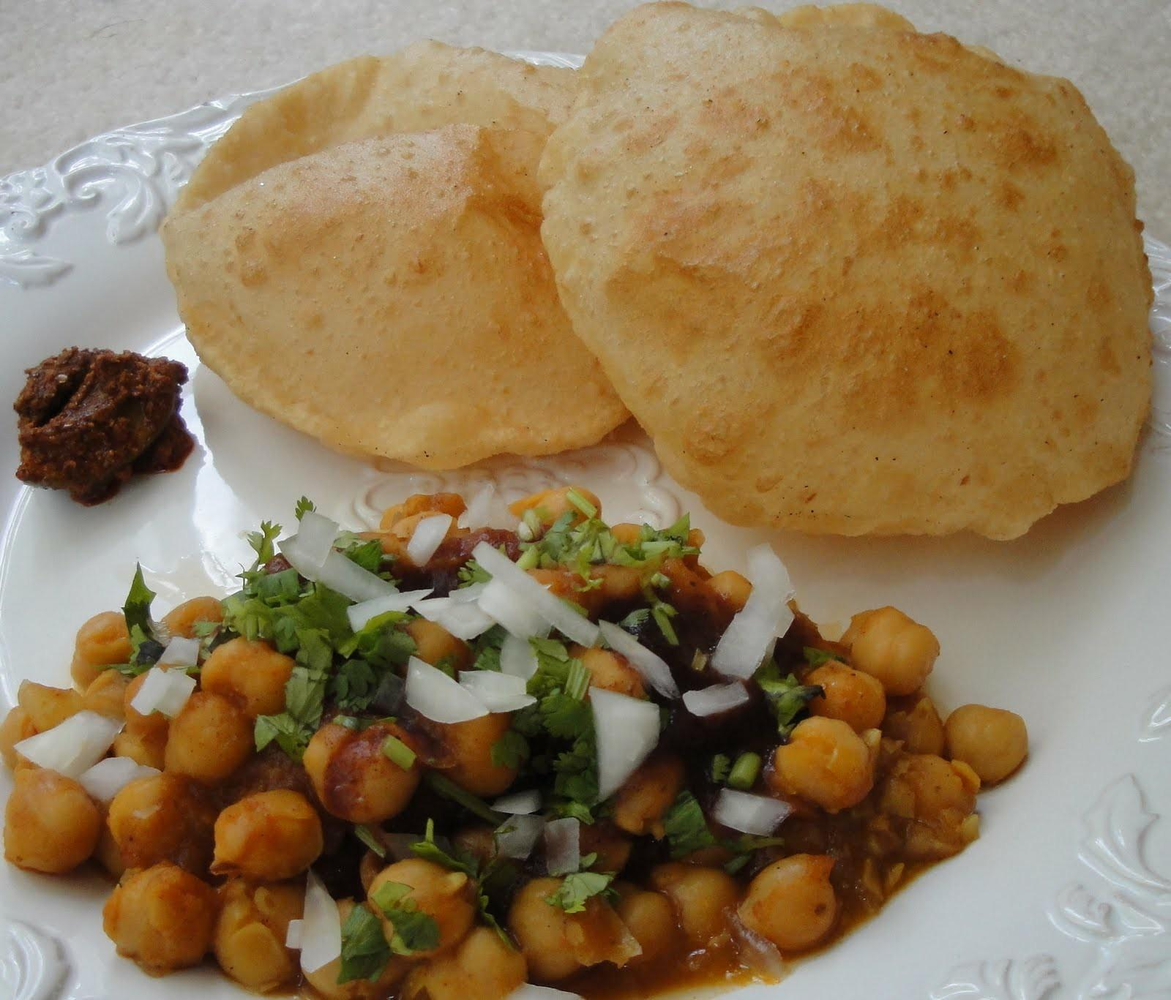Bhatura: (165, 0, 1171, 544)
Chole: (16, 488, 1027, 985)
